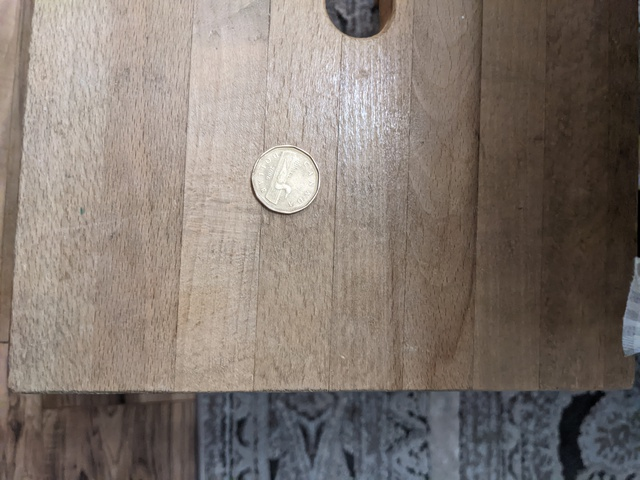loonie: (246, 144, 331, 212)
